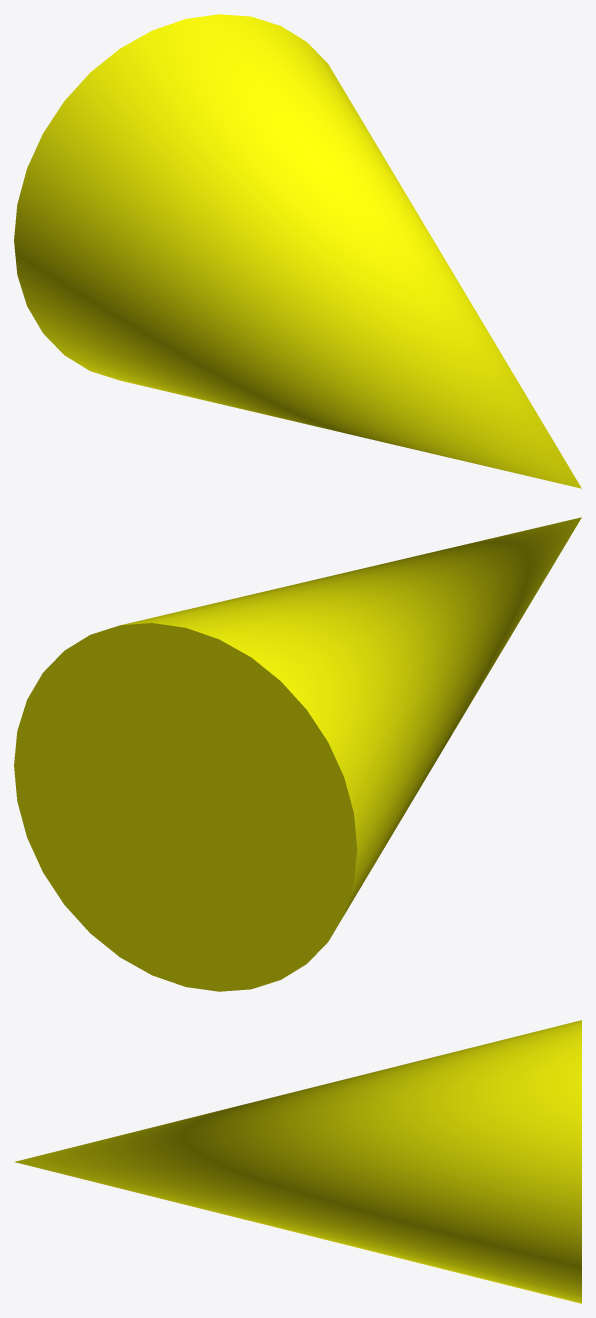
File: yellow_cone.obj
3 views of the same model, one above another, from view 1: azimuth 30°, elevation 25°; view 2: azimuth 150°, elevation 25°; view 3: azimuth 270°, elevation 25° (orthographic). The views are drawn at different scales.
Size of the model in its own units: 0.2 by 0.2 by 0.4.
